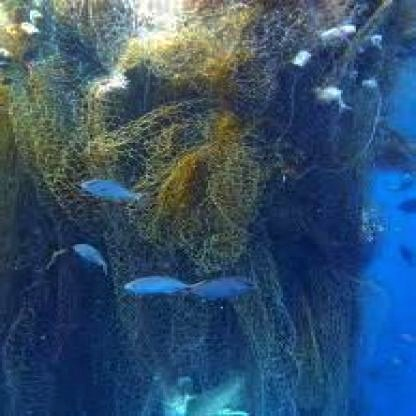net: (13, 6, 367, 413)
